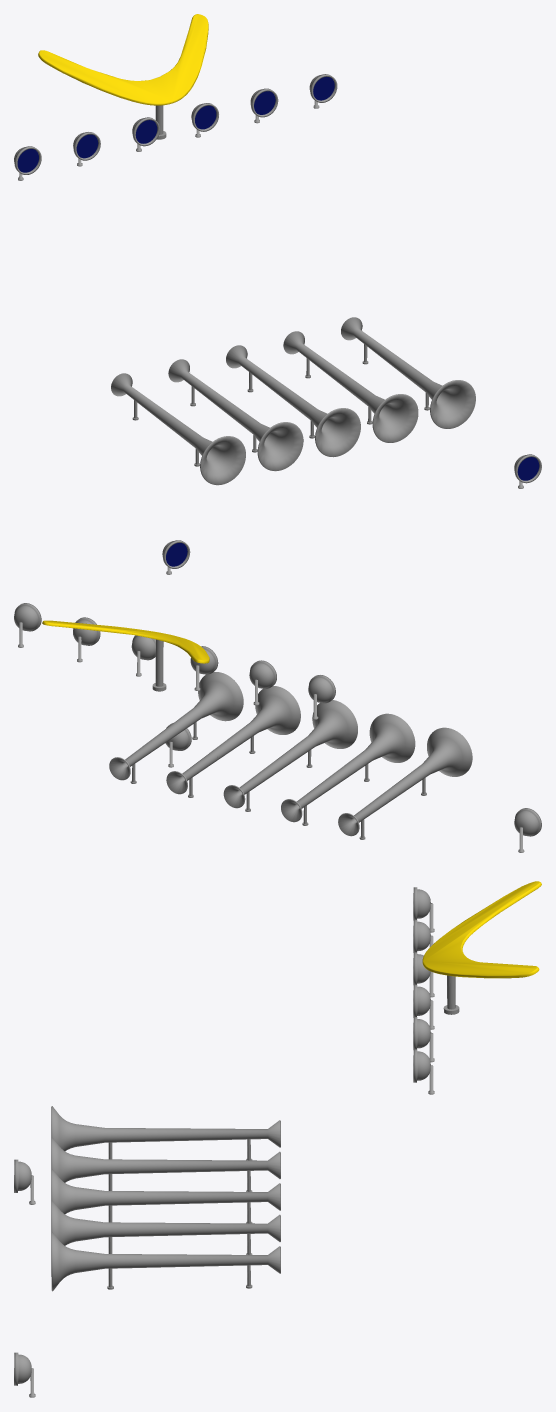
File: Set 2.fbx
3 renders of one model, top to bottom at view 1: azimuth 30°, elevation 25°; view 2: azimuth 150°, elevation 25°; view 3: azimuth 270°, elevation 25°, orthographic. The views are drawn at different scales.
Parts seen in each view (by area): view 1: Boomerang, Horn 3, Horn 5, Horn 1, Horn 2, Horn 4, Light 4, Left Light, Light 1, Light 2, Light 3, Right Light (+2 smaller); view 2: Horn 5, Horn 3, Horn 4, Horn 2, Horn 1, Boomerang, Left Light, Light 6, Light 4, Light 5, Light 2, Light 3 (+2 smaller); view 3: Boomerang, Horn 4, Horn 3, Horn 2, Horn 5, Horn 1, Light 4, Light 6, Light 3, Light 2.
Part boxes in pixels (box(x1,y1,x2,y2)): Boomerang: box(38, 14, 208, 139); Horn 3: box(168, 359, 303, 471); Horn 5: box(111, 373, 245, 485); Horn 1: box(226, 345, 360, 457); Horn 2: box(283, 331, 418, 442); Horn 4: box(341, 317, 475, 428); Light 4: box(309, 74, 337, 108); Left Light: box(162, 540, 190, 574); Light 1: box(132, 117, 159, 151); Light 2: box(191, 103, 218, 137); Light 3: box(250, 88, 278, 123); Right Light: box(514, 454, 541, 488); Horn 5: box(338, 727, 472, 839); Horn 3: box(281, 713, 415, 825); Horn 4: box(109, 672, 243, 783); Horn 2: box(166, 686, 300, 797); Horn 1: box(223, 700, 357, 811); Boomerang: box(42, 620, 209, 691); Left Light: box(514, 808, 541, 852); Light 6: box(308, 675, 335, 719); Light 4: box(14, 603, 41, 647); Light 5: box(249, 660, 276, 705); Light 2: box(131, 635, 155, 676); Light 3: box(73, 617, 100, 662); Boomerang: box(422, 881, 541, 1014); Horn 4: box(51, 1232, 280, 1291); Horn 3: box(51, 1137, 280, 1191); Horn 2: box(51, 1200, 280, 1254); Horn 5: box(51, 1106, 280, 1160); Horn 1: box(51, 1169, 280, 1223); Light 4: box(413, 1049, 434, 1094); Light 6: box(413, 887, 434, 932); Light 3: box(413, 1017, 434, 1062); Light 2: box(413, 984, 434, 1029).
Size of the model in its own units: 213 by 180 by 230.
